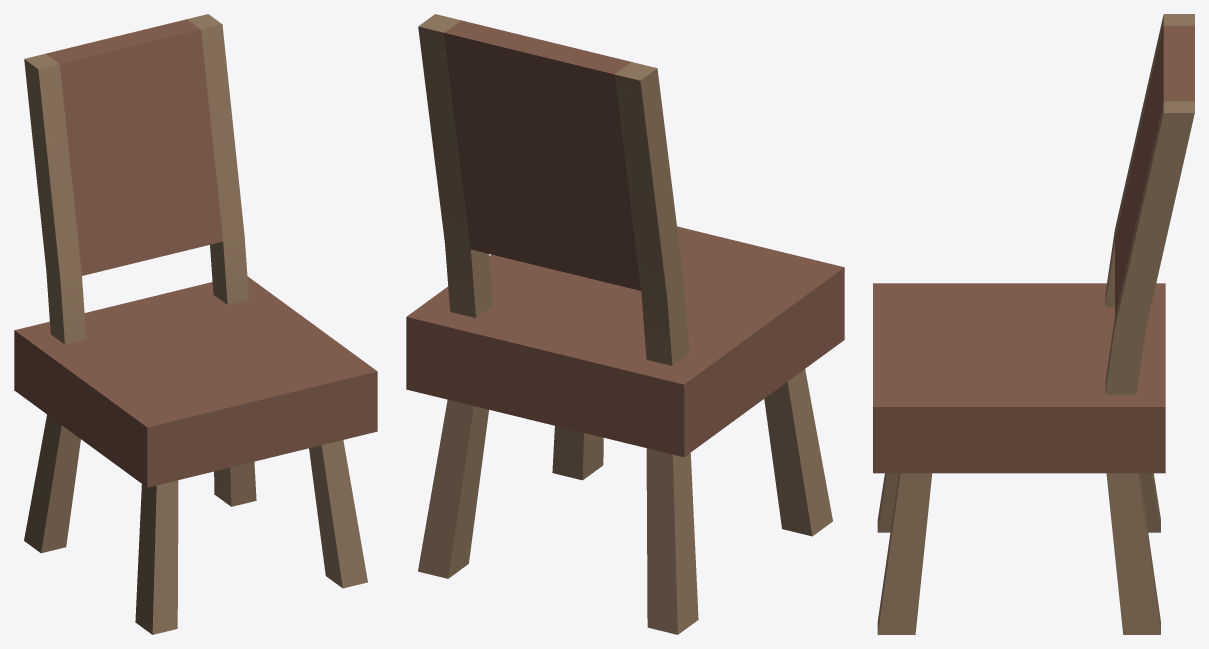
Rendered from TeaChair.fbx.
The picture shows the model from 3 angles, left to right: view 1: azimuth 30°, elevation 25°; view 2: azimuth 150°, elevation 25°; view 3: azimuth 270°, elevation 25°; orthographic projection. The views are drawn at different scales.
Parts seen in each view (by area): view 1: geo_TeaChair; view 2: geo_TeaChair; view 3: geo_TeaChair.
Boxes of the visible parts, box(x1,y1,x2,y2) form: geo_TeaChair: box(14, 14, 377, 634); geo_TeaChair: box(406, 14, 844, 634); geo_TeaChair: box(873, 14, 1194, 634).
Size of the model in its own units: 0.8 by 1.55 by 0.88.
